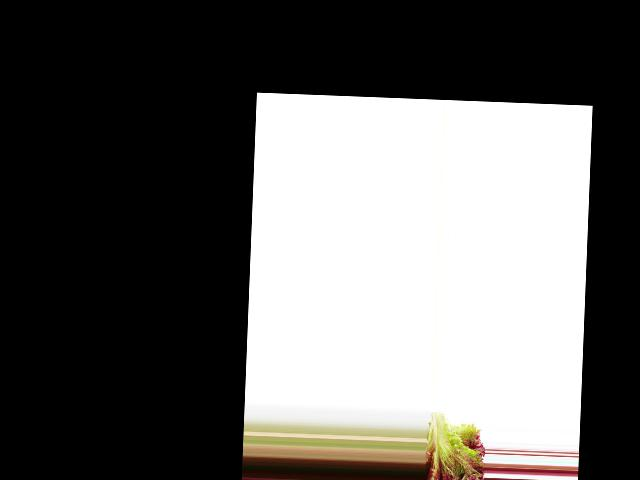lettuce: (423, 409, 485, 480)
